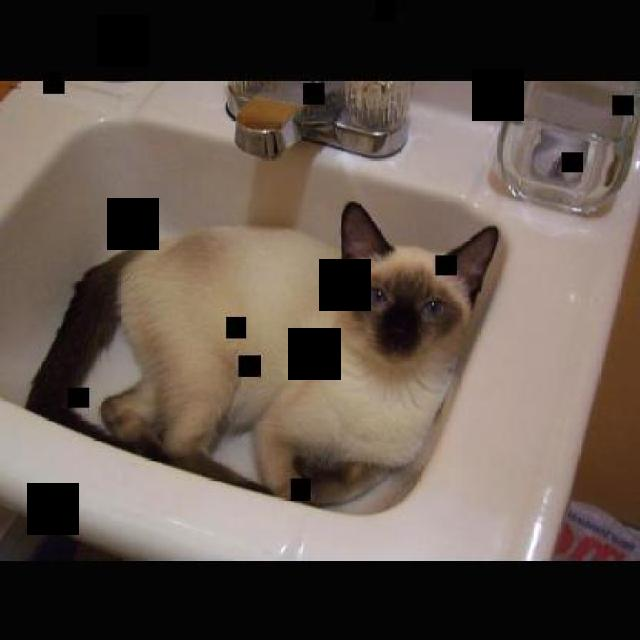unauthorized: (23, 200, 500, 514)
